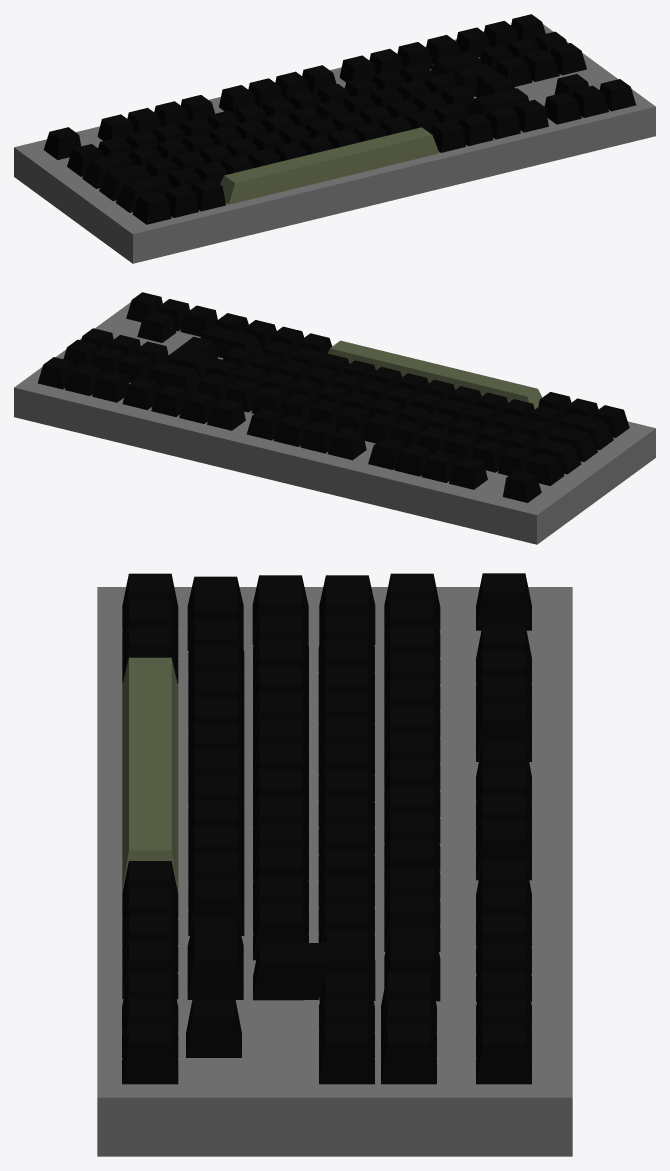
File: keyboard.fbx
The picture shows the model from 3 angles, top to bottom: view 1: azimuth 30°, elevation 25°; view 2: azimuth 150°, elevation 25°; view 3: azimuth 270°, elevation 25°; orthographic projection. The views are drawn at different scales.
Parts seen in each view (by area): view 1: Keyboard; view 2: Keyboard; view 3: Keyboard.
Boxes of the visible parts, box(x1,y1,x2,y2) form: Keyboard: box(14, 14, 655, 263); Keyboard: box(14, 292, 655, 544); Keyboard: box(97, 573, 572, 1156).
Bounding box in the file's own units: 274 × 23.96 × 108.
